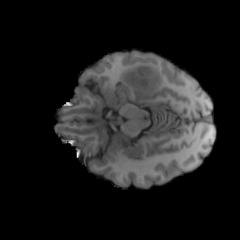glioma: (120, 64, 163, 96)
